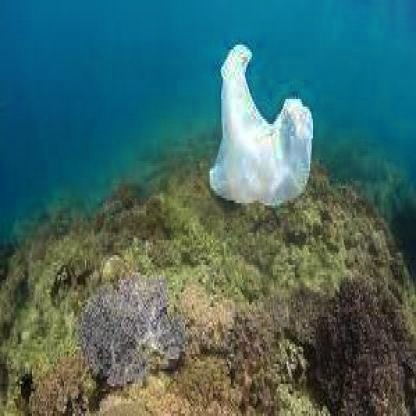pbag: (207, 42, 313, 206)
